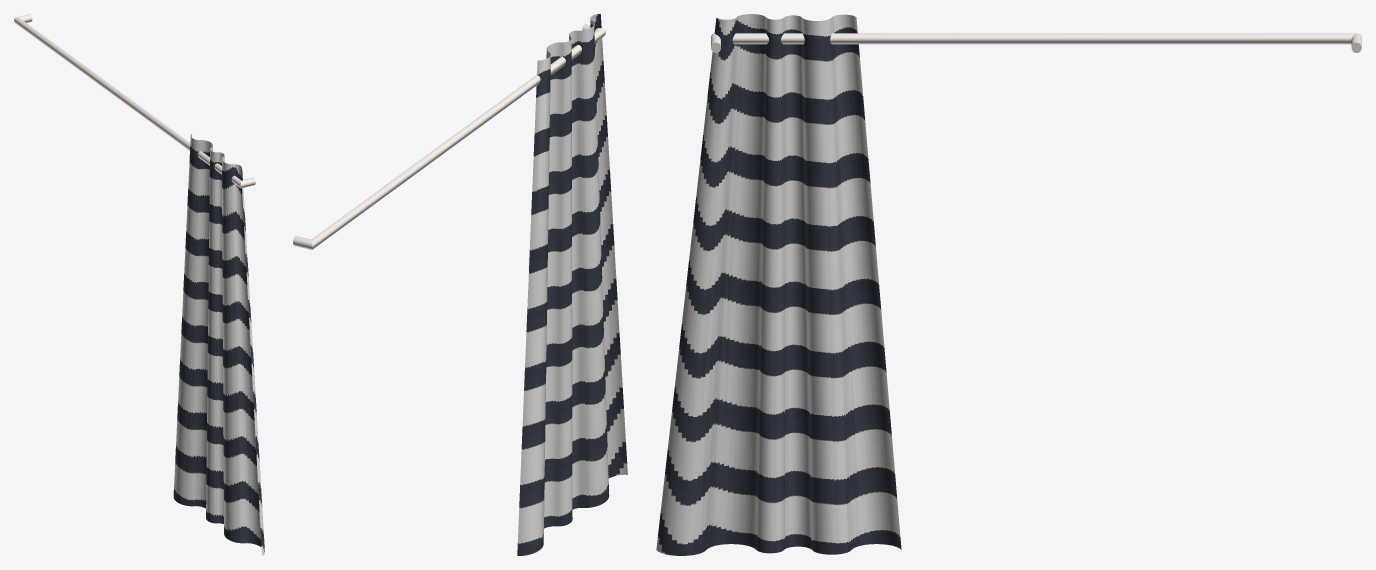
3 renders of one model, left to right at view 1: azimuth 30°, elevation 25°; view 2: azimuth 150°, elevation 25°; view 3: azimuth 270°, elevation 25°, orthographic. The views are drawn at different scales.
Visible parts, largest first — view 1: Mesh1_Group1_Curtain_Rod_with_curtains1_Model.001; view 2: Mesh1_Group1_Curtain_Rod_with_curtains1_Model.001; view 3: Mesh1_Group1_Curtain_Rod_with_curtains1_Model.001.
Part boxes in pixels (<box>): Mesh1_Group1_Curtain_Rod_with_curtains1_Model.001: <box>14,14,264,555</box>; Mesh1_Group1_Curtain_Rod_with_curtains1_Model.001: <box>293,14,627,555</box>; Mesh1_Group1_Curtain_Rod_with_curtains1_Model.001: <box>656,14,1361,555</box>.
Bounding box in the file's own units: 0.06 × 1 × 1.2.
